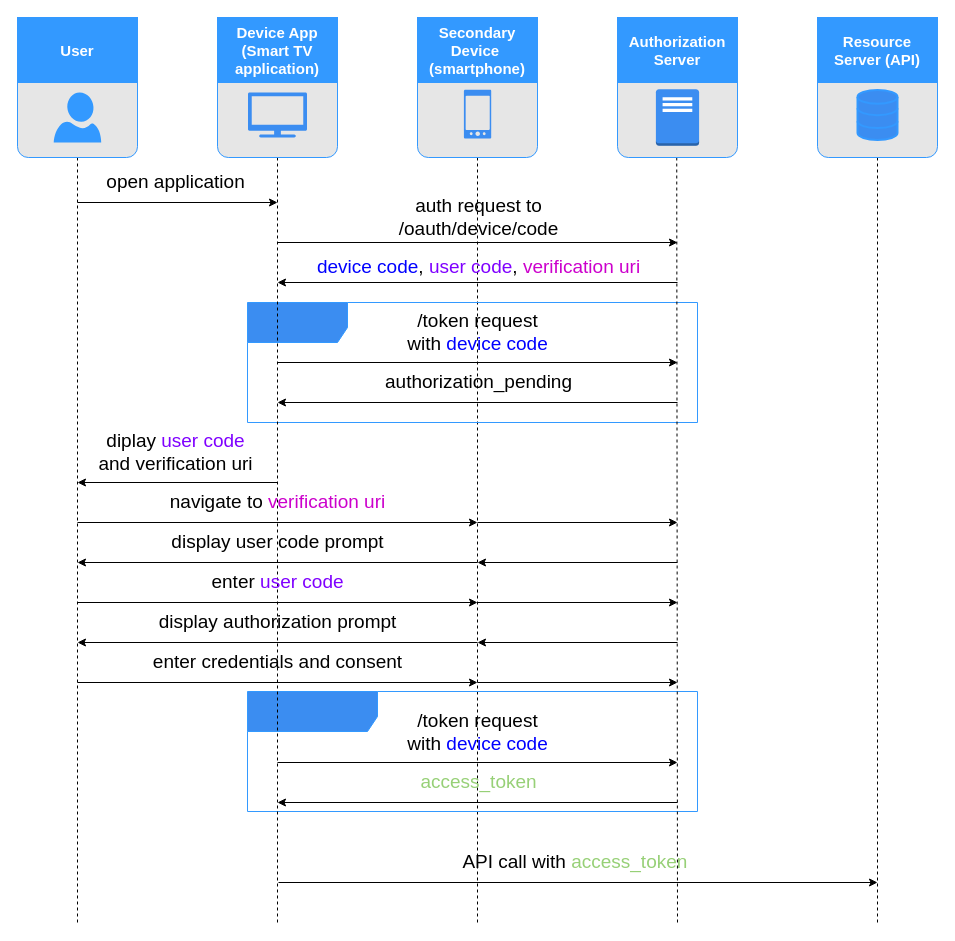
Some shapes in this 955 by 941 pixel diagram are drawn without their labels. The box of each missing label's shape, as (x1, y1, x2, y2) in pixels:
continue polling: (246, 690, 698, 812)
start polling: (246, 302, 698, 422)
